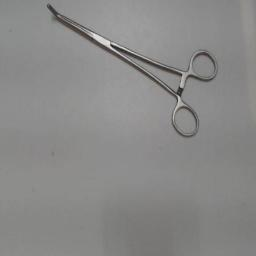Lahey Forceps: (42, 0, 220, 142)
